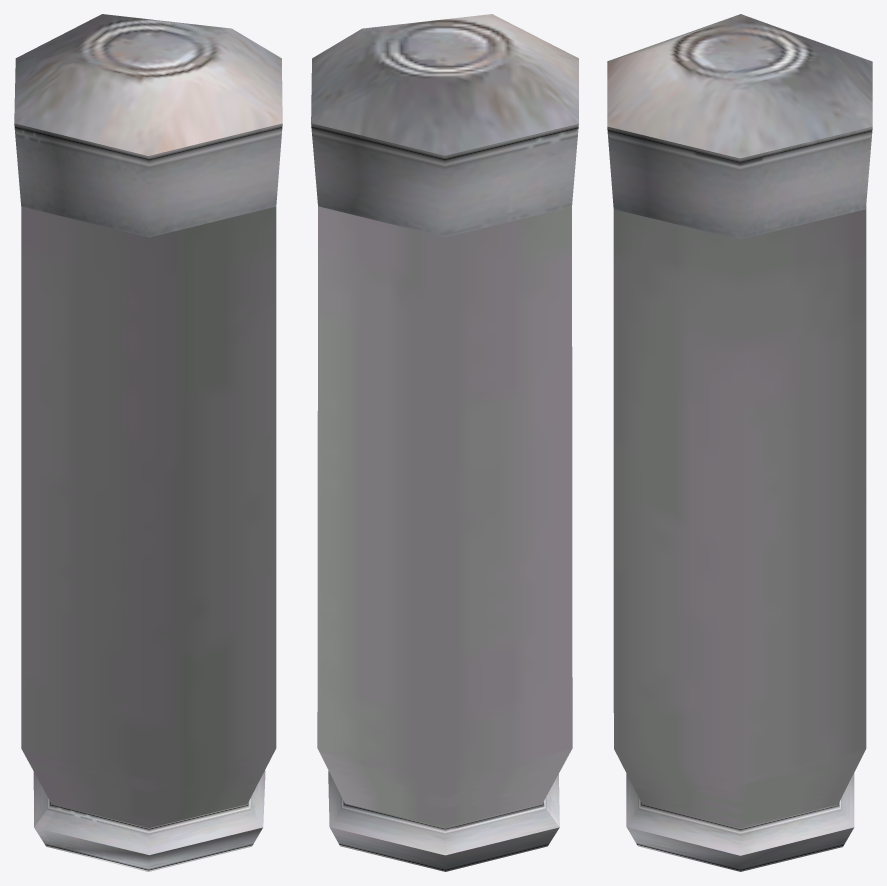
Rendered from eqp_medic_antidote_sm_s1_l1.fbx.
3 views of the same model, side by side, from view 1: azimuth 30°, elevation 25°; view 2: azimuth 150°, elevation 25°; view 3: azimuth 270°, elevation 25° (orthographic).
Visible parts, largest first — view 1: mesh_node; view 2: mesh_node; view 3: mesh_node.
Boxes of the visible parts, x1,y1,x2,y2 form: mesh_node: (14, 14, 282, 871); mesh_node: (311, 14, 578, 871); mesh_node: (607, 14, 872, 871).
Size of the model in its own units: 0.0509 by 0.1405 by 0.044.
